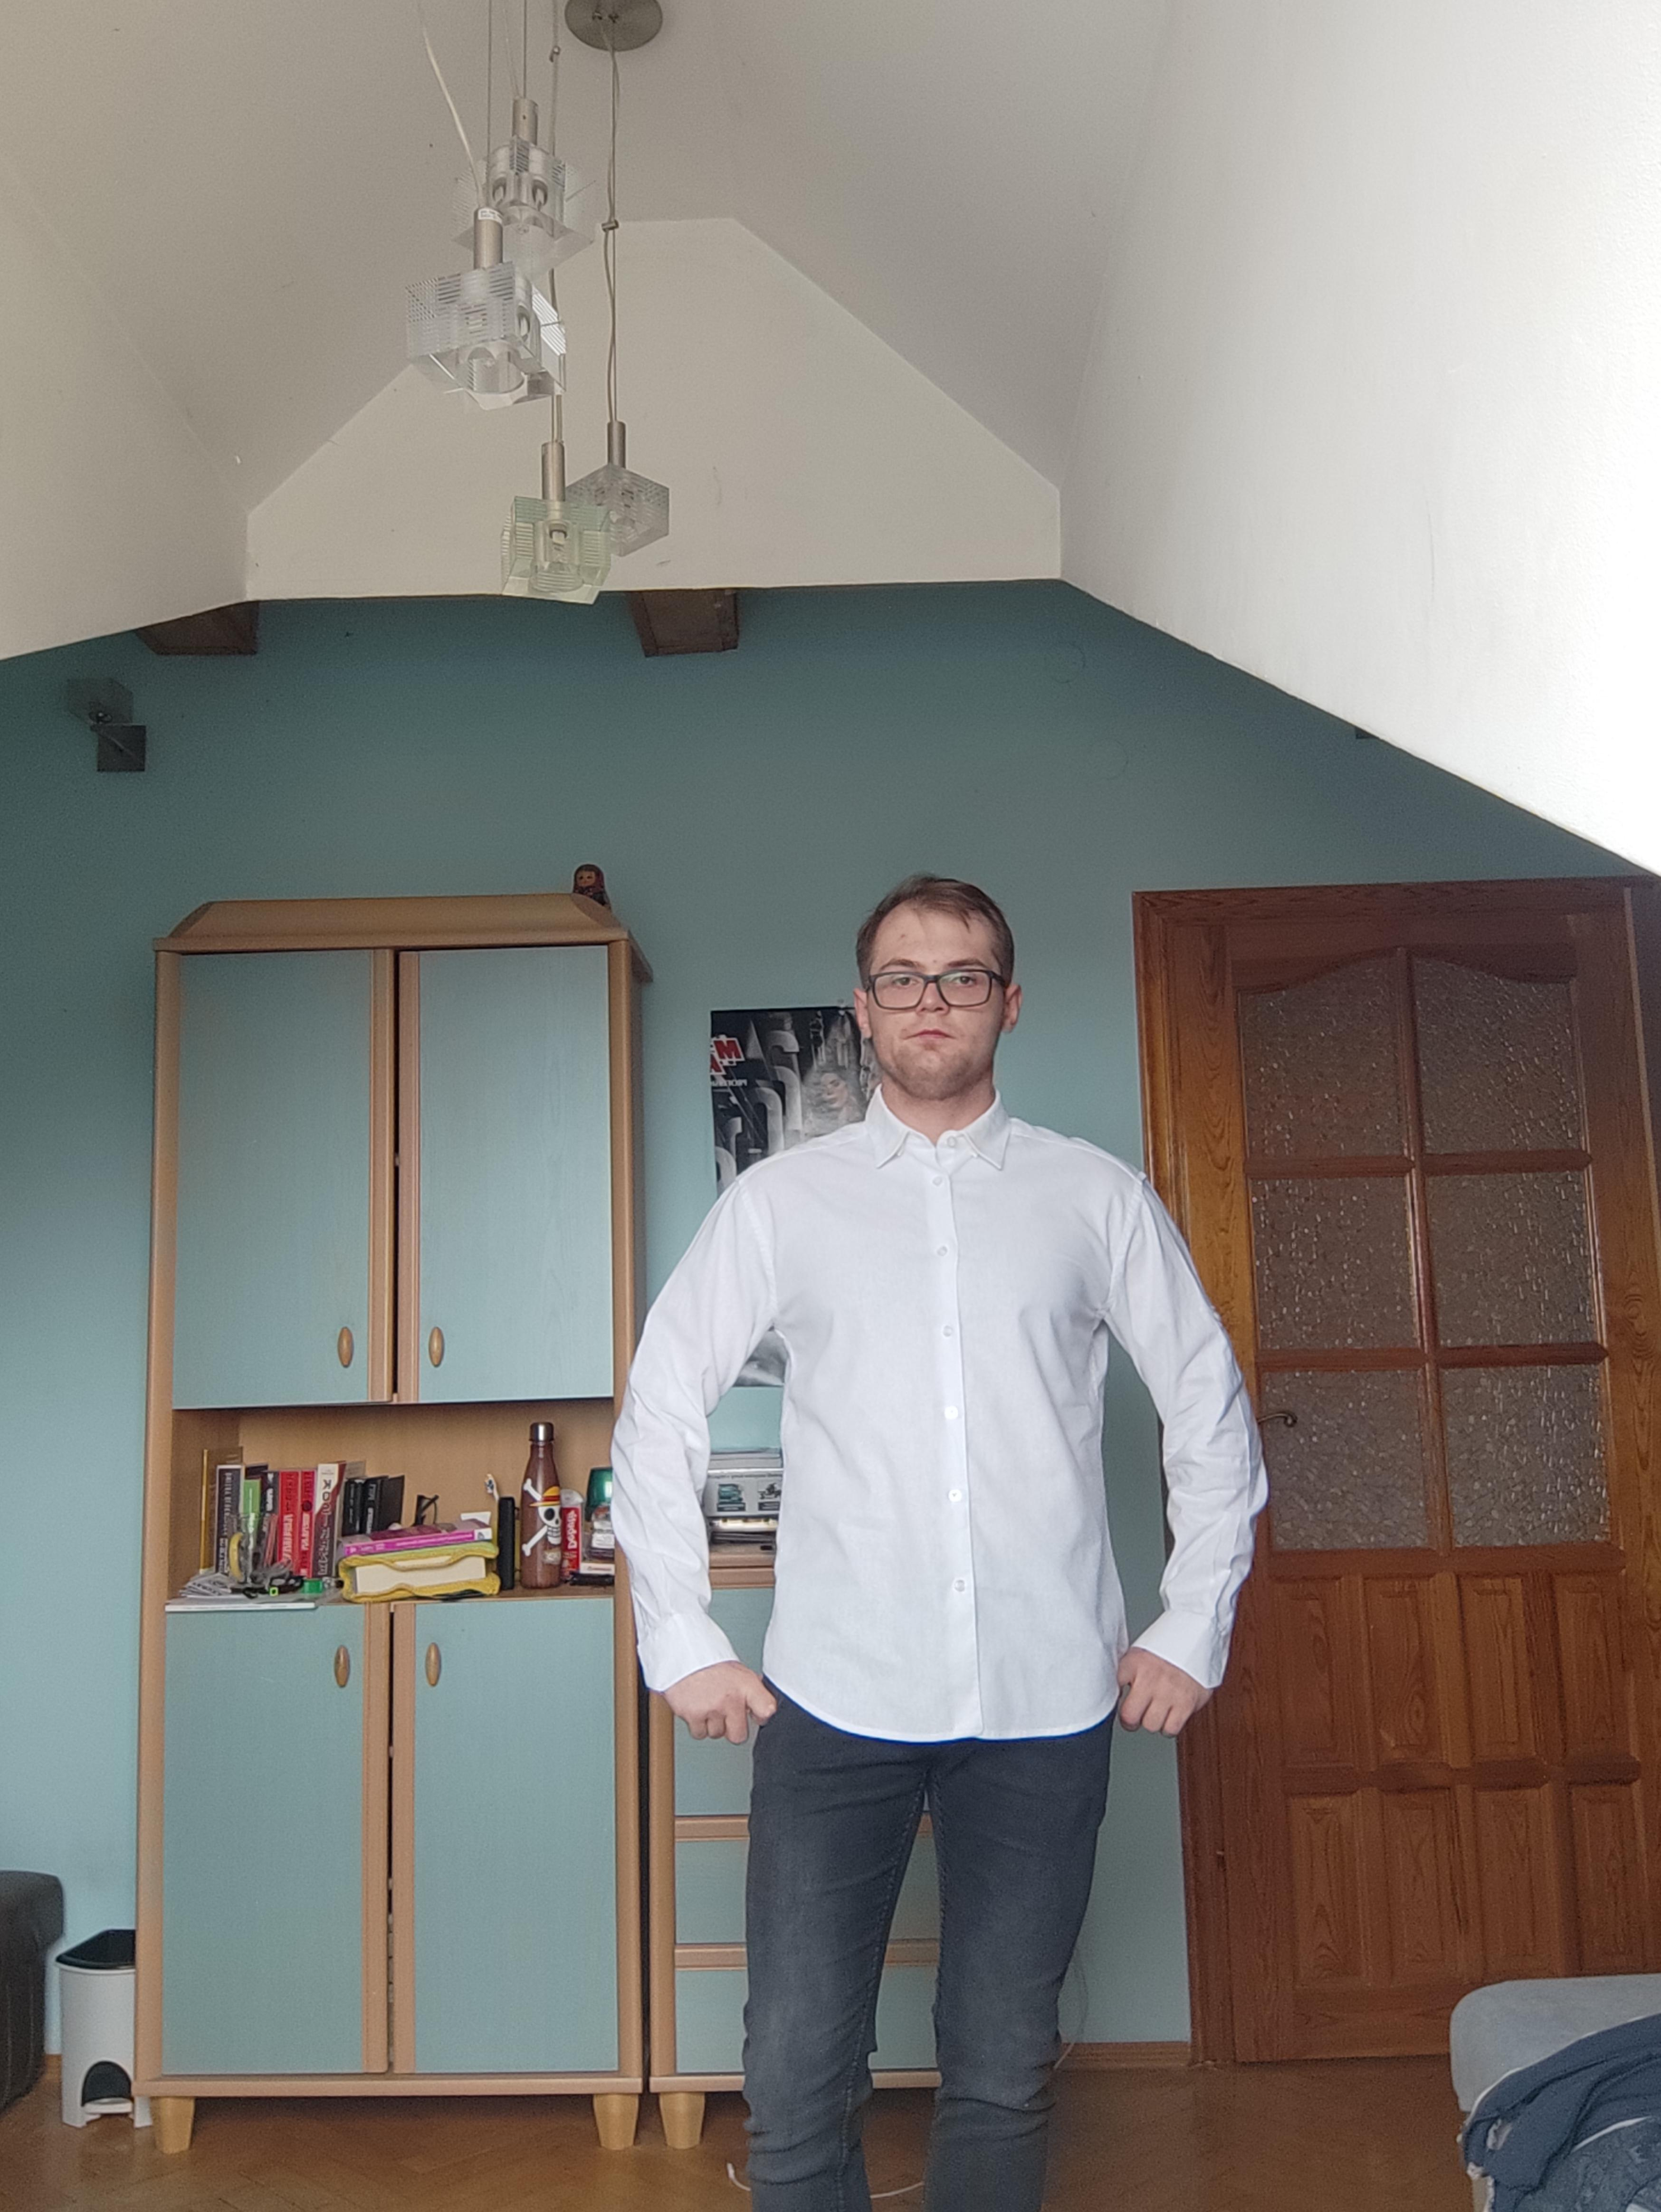pants: (740, 1601, 1120, 2212)
shirt: (621, 1078, 1274, 1744)
